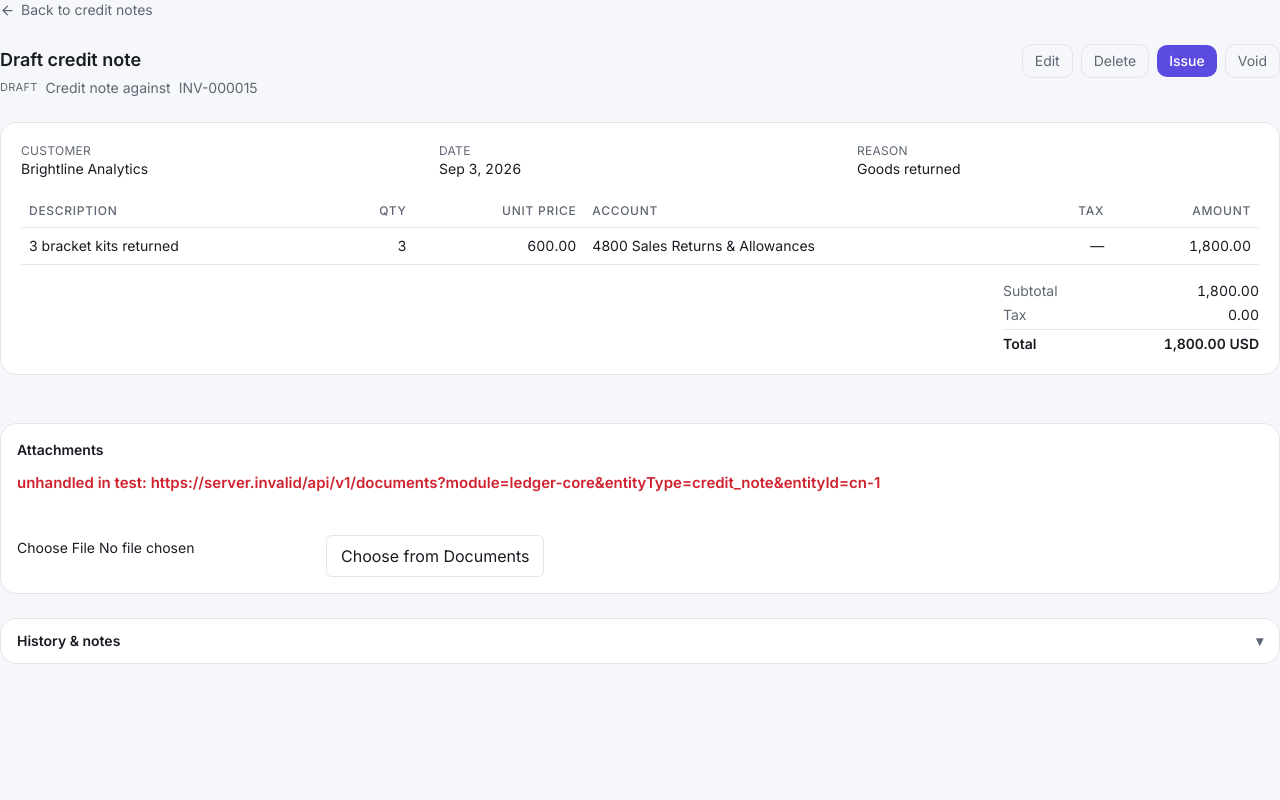
Test: CreditNoteDetailPage › issue confirms before posting and shows the number
The image size is (1280, 800).
Click the button "Issue".
click(1187, 61)  # box 1157,45 -> 1217,77
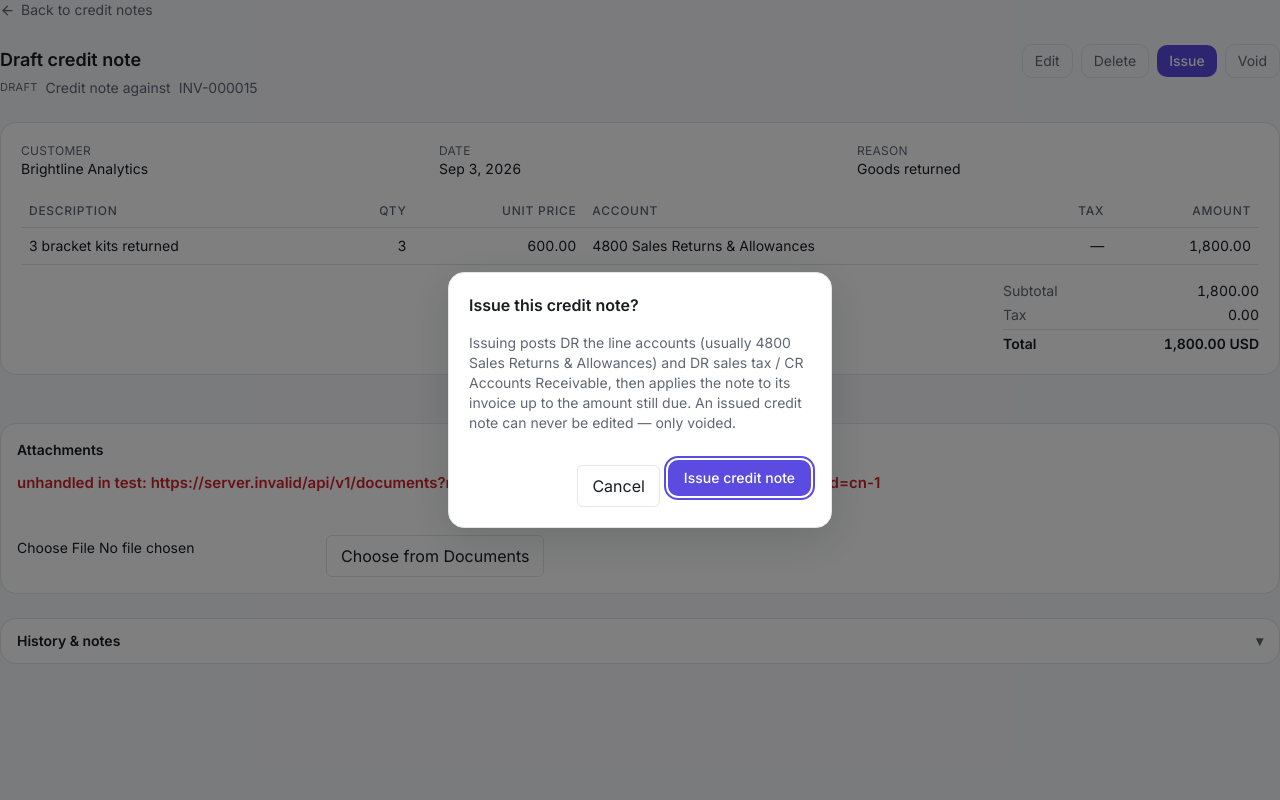
Click the button "Issue credit note".
click(739, 478)  # box 668,460 -> 811,496
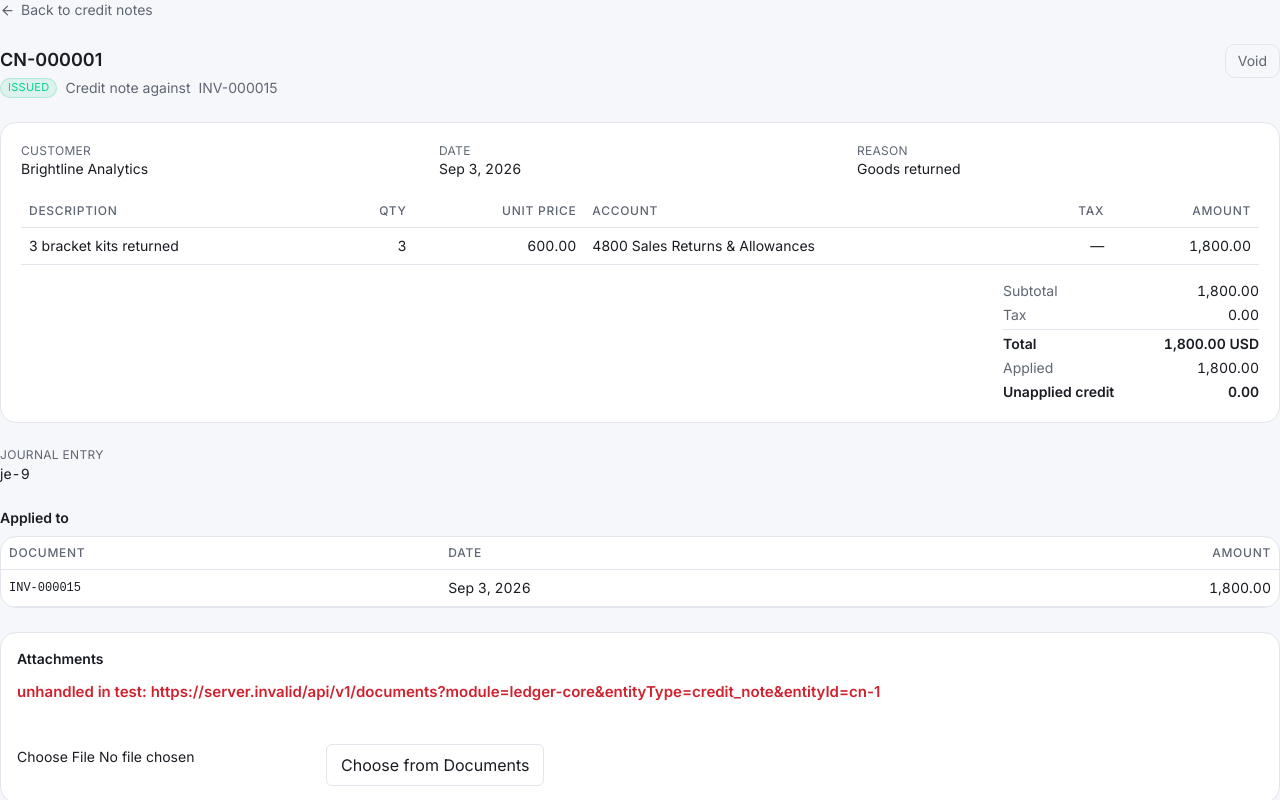
Expected: the heading "CN-000001" is shown, 0,49 -> 102,70
Expected: the heading "Applied to" is shown, 0,509 -> 69,526
